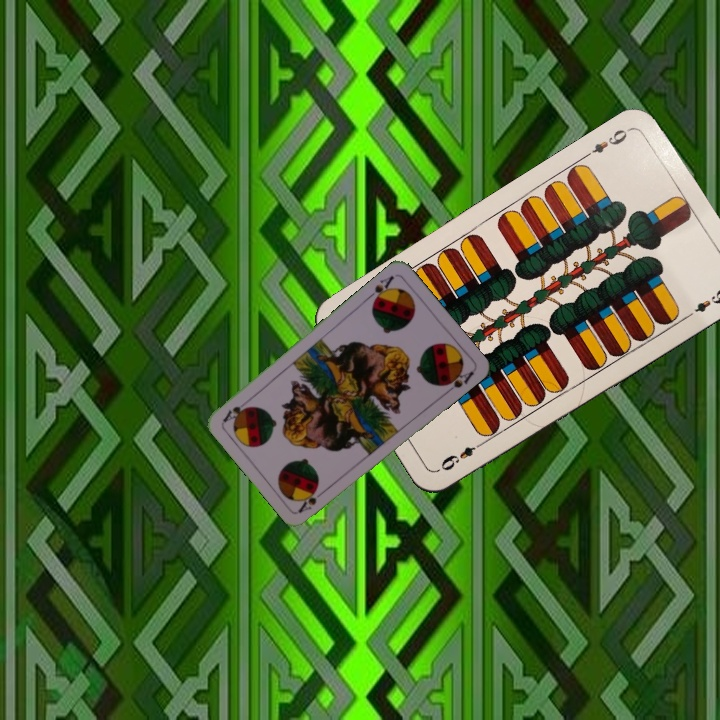E9: (580, 124, 634, 161), (435, 437, 488, 474)
SA: (363, 271, 397, 307), (295, 485, 329, 515)
